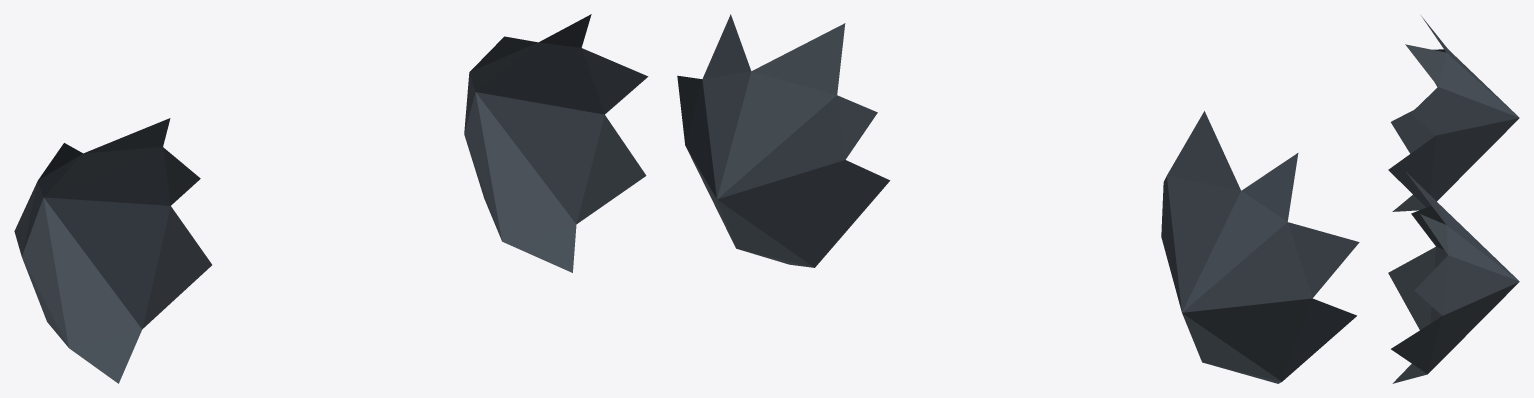
The model's file is BR_Empoleon.obj.
3 views of the same model, side by side, from view 1: azimuth 30°, elevation 25°; view 2: azimuth 150°, elevation 25°; view 3: azimuth 270°, elevation 25° (orthographic). The views are drawn at different scales.
Visible parts, largest first — view 1: emperte; view 2: emperte; view 3: emperte.
Boxes of the visible parts, <box> form: emperte: <box>14,14,648,383</box>; emperte: <box>677,14,1359,383</box>; emperte: <box>1388,16,1519,383</box>.
Size of the model in its own units: 5.89 by 2.18 by 1.37.
1 material, 1 textured.
